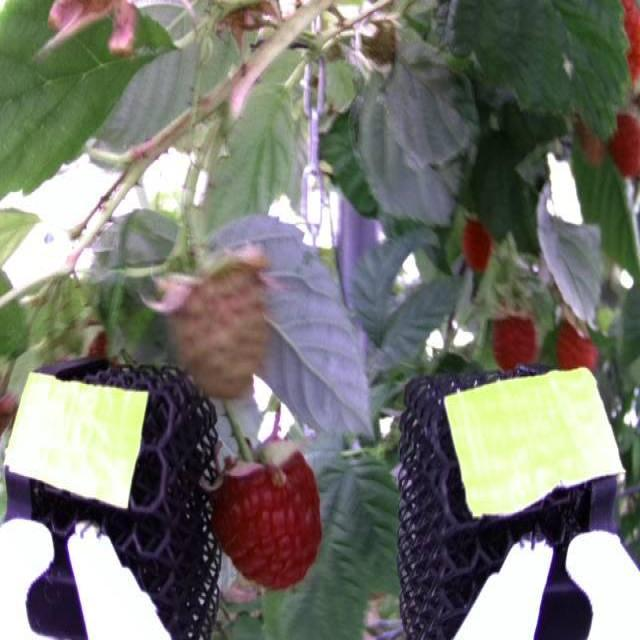Riped berries: (218, 438, 332, 585), (491, 306, 535, 369), (555, 313, 600, 373), (609, 0, 640, 85), (610, 104, 640, 182), (458, 212, 495, 273)
